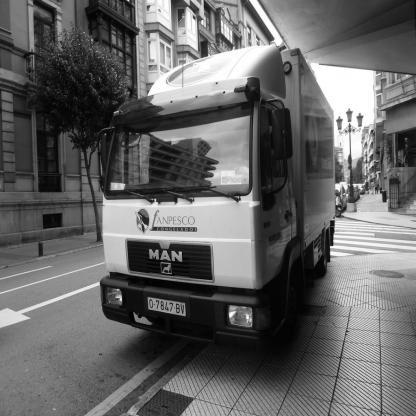truck: (79, 32, 360, 366)
